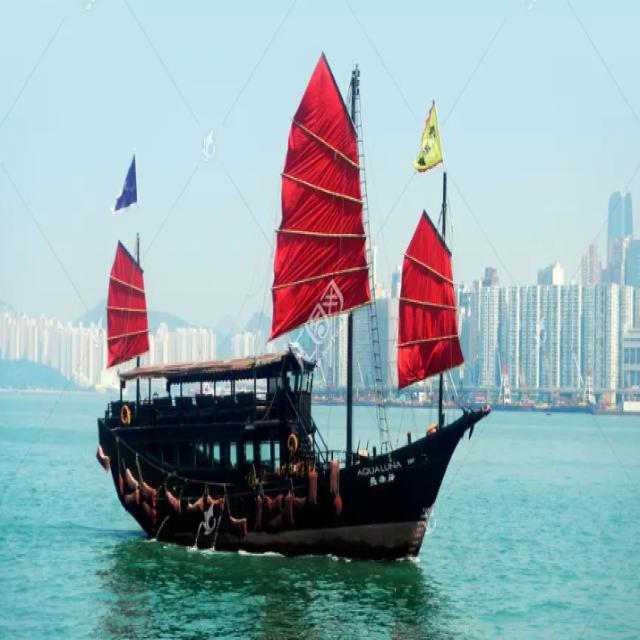houseboat: (95, 99, 488, 562)
